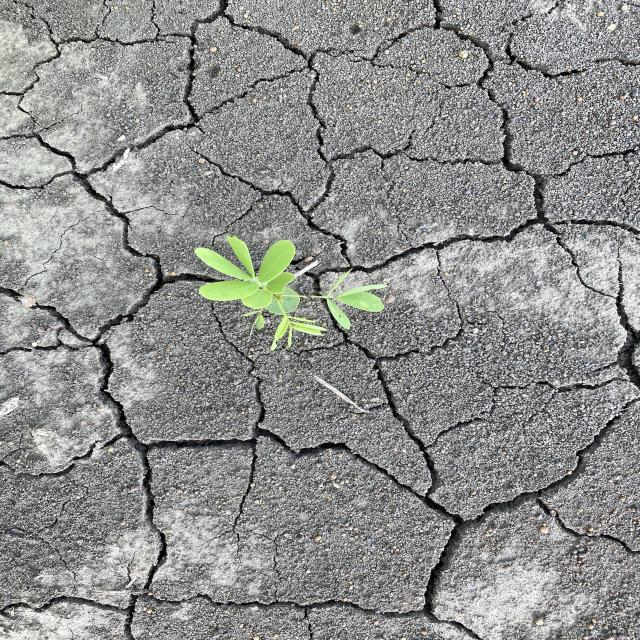Sicklepod: (193, 234, 390, 354)
